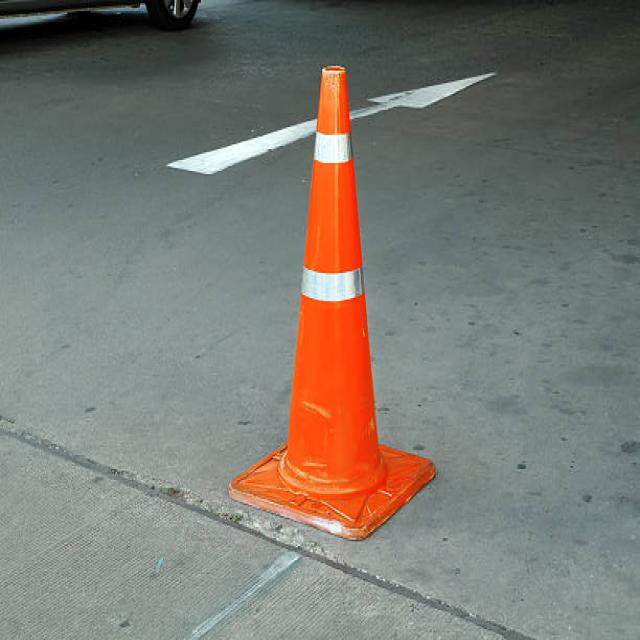Traffic Cone: (222, 24, 457, 570)
